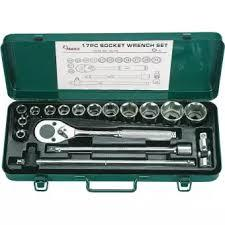wrench: (32, 117, 176, 144)
